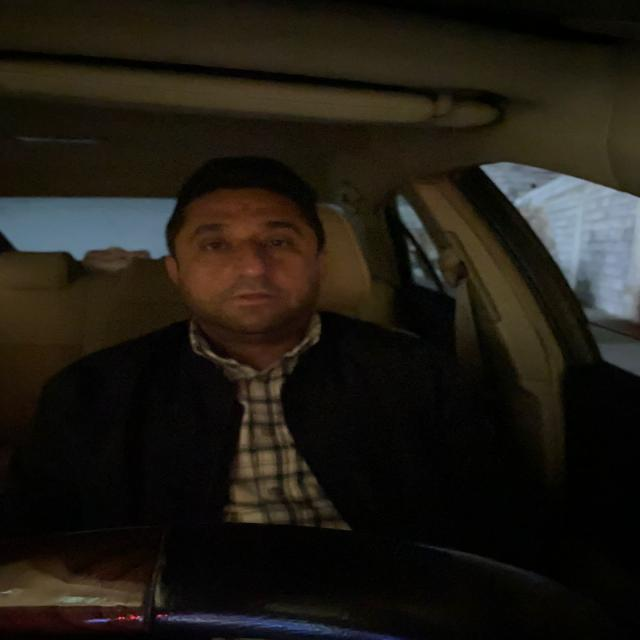person: (144, 145, 356, 356)
